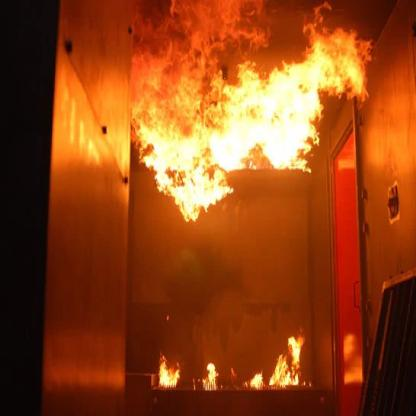fire: (139, 15, 377, 232), (242, 331, 311, 395), (159, 354, 184, 390), (203, 361, 221, 395)
smoke: (134, 0, 267, 107)
